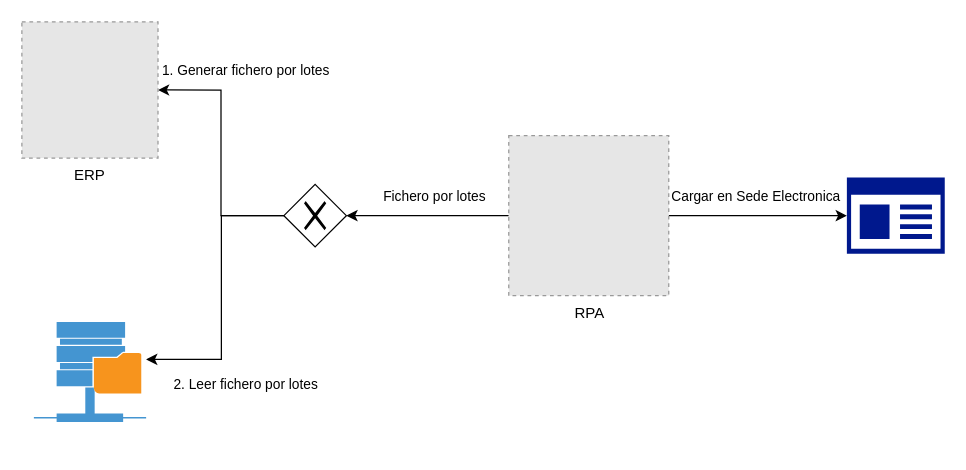
The diagram is 966 pixels wide and 470 high, and some of its shapes have lost their labels. Grey dashed boxes stand in for pictures. The shapes that lost their labels are listed below. From the top down, each one's centre as x and y in pixels, then its label:
pixel 895 215: SILTRA
pixel 89 371: Repositorio
